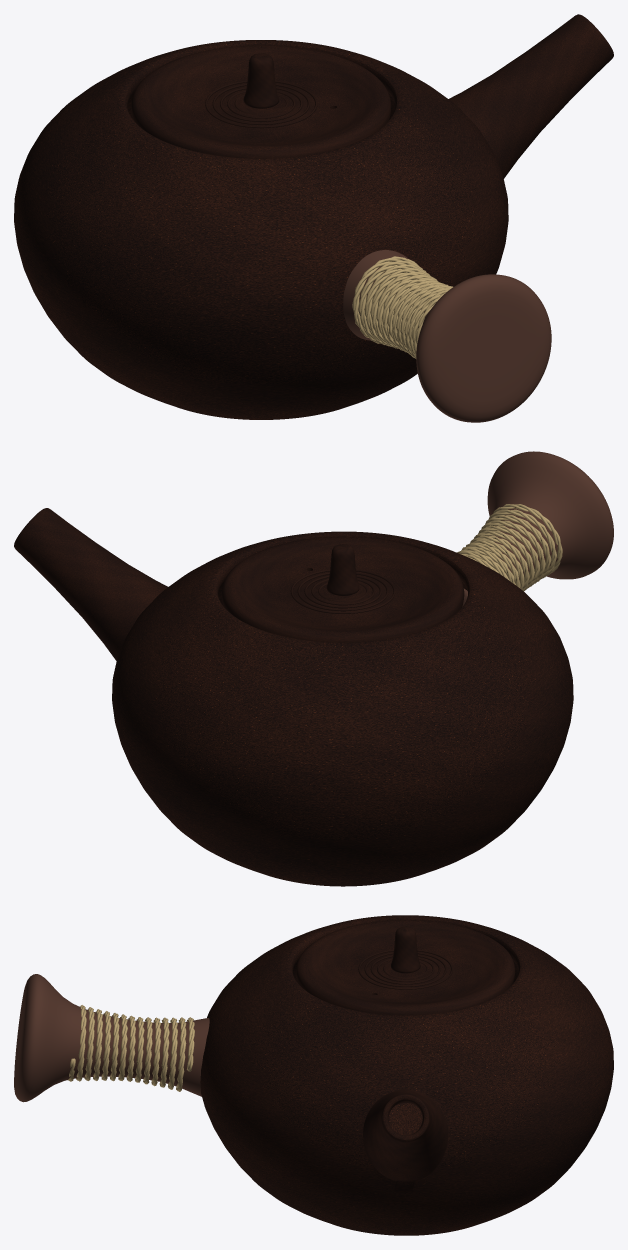
File: kyusu-reference.glb
3 views of the same model, one above another, from view 1: azimuth 30°, elevation 25°; view 2: azimuth 150°, elevation 25°; view 3: azimuth 270°, elevation 25° (orthographic). The views are drawn at different scales.
Visible parts, largest first — view 1: kyusu_body, kyusu_lid_disc, kyusu_side_handle, kyusu_handle_cord, kyusu_lid, kyusu_lid_knob; view 2: kyusu_body, kyusu_lid_disc, kyusu_side_handle, kyusu_handle_cord, kyusu_lid, kyusu_lid_knob; view 3: kyusu_body, kyusu_lid_disc, kyusu_side_handle, kyusu_handle_cord, kyusu_lid, kyusu_lid_knob.
Part boxes in pixels (x1=…): kyusu_body: x1=14, y1=14, x2=613, y2=419; kyusu_lid_disc: x1=131, y1=45, x2=391, y2=158; kyusu_side_handle: x1=343, y1=250, x2=551, y2=422; kyusu_handle_cord: x1=352, y1=256, x2=452, y2=358; kyusu_lid: x1=205, y1=80, x2=317, y2=128; kyusu_lid_knob: x1=243, y1=53, x2=278, y2=108; kyusu_body: x1=14, y1=508, x2=573, y2=886; kyusu_lid_disc: x1=221, y1=536, x2=464, y2=642; kyusu_side_handle: x1=462, y1=451, x2=613, y2=606; kyusu_handle_cord: x1=457, y1=504, x2=562, y2=591; kyusu_lid: x1=290, y1=569, x2=395, y2=613; kyusu_lid_knob: x1=326, y1=544, x2=359, y2=595; kyusu_body: x1=200, y1=915, x2=613, y2=1235; kyusu_lid_disc: x1=296, y1=920, x2=514, y2=1015; kyusu_side_handle: x1=14, y1=974, x2=209, y2=1102; kyusu_handle_cord: x1=68, y1=1005, x2=194, y2=1091; kyusu_lid: x1=358, y1=949, x2=452, y2=989; kyusu_lid_knob: x1=391, y1=926, x2=420, y2=973.
Size of the model in its own units: 0.1766 by 0.0934 by 0.1941.
Materials: 4 (2 with a texture image).
